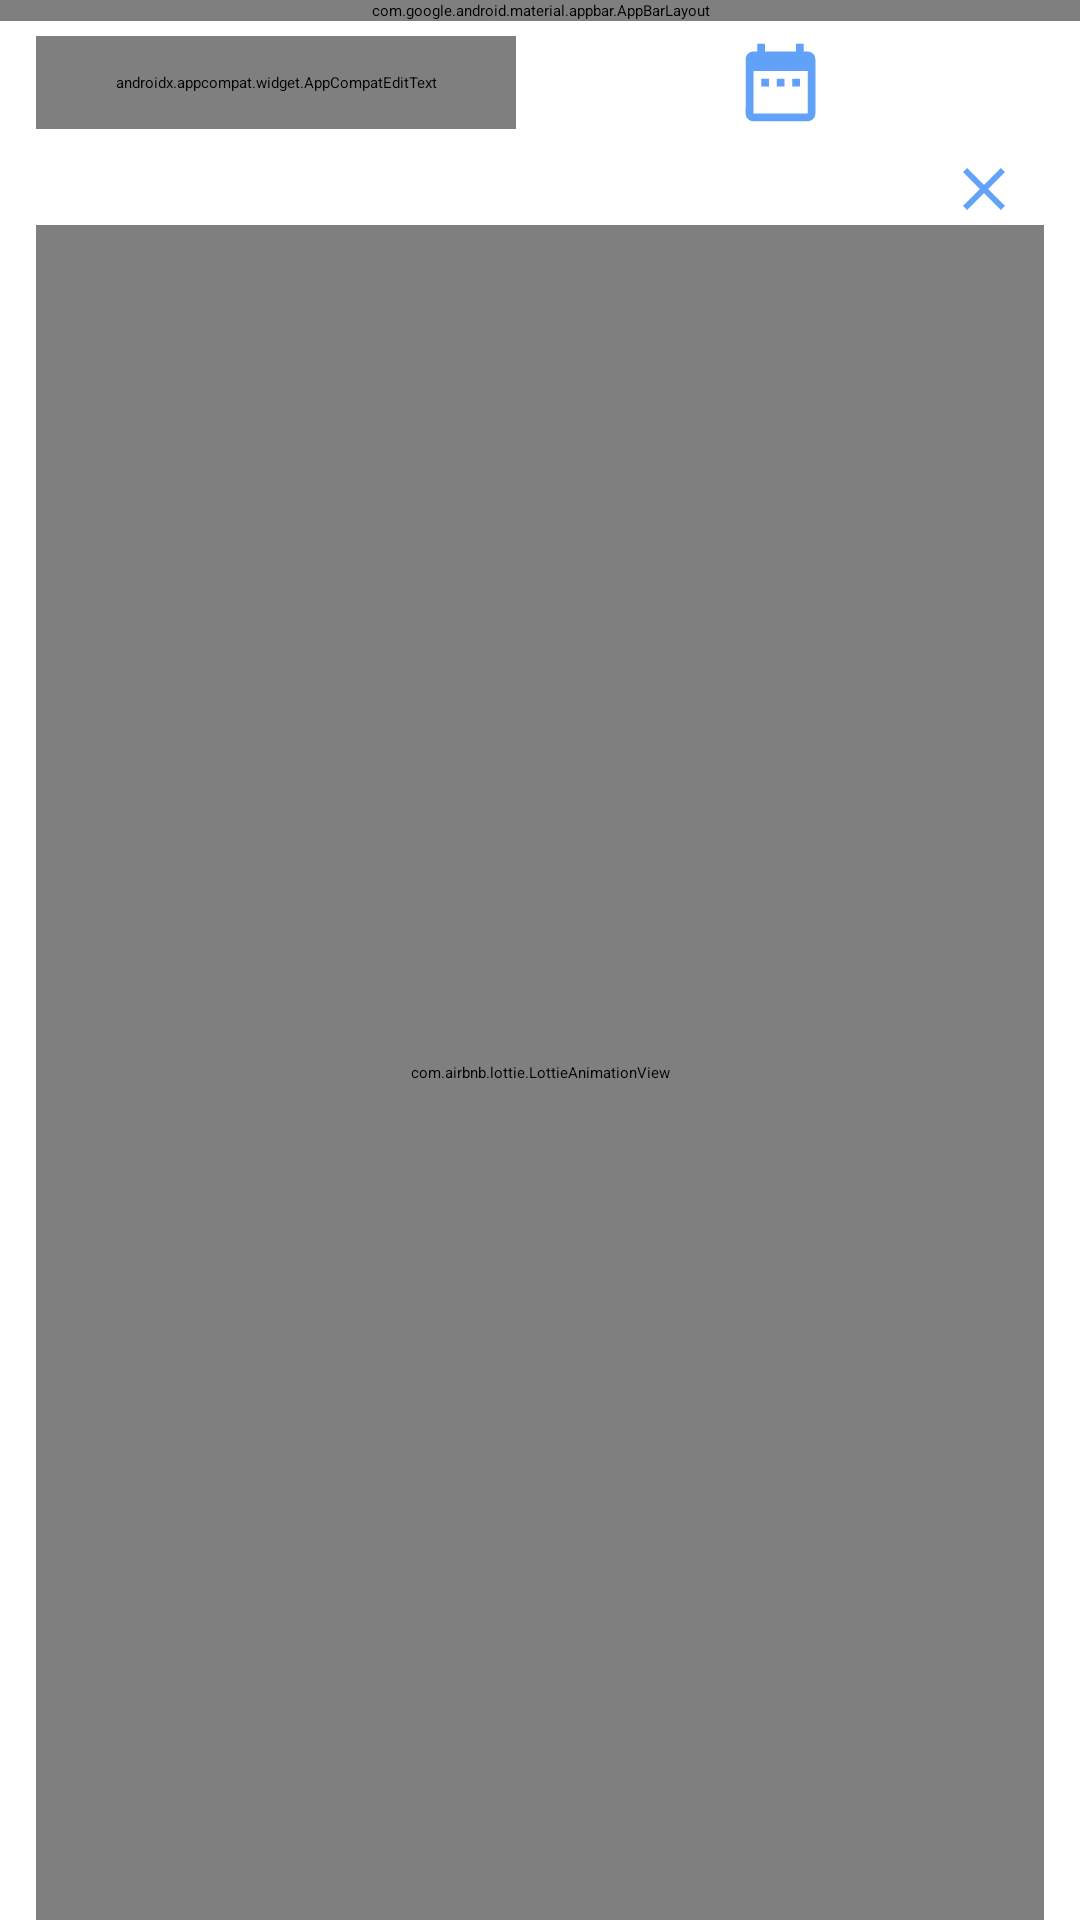

Screen size 1080w x 1920h. Icon name, then its box in pixels as (x1=x1, y1=y1, x2=x2, y2=y2):
date range: (x1=745, y1=43, x2=816, y2=122)
